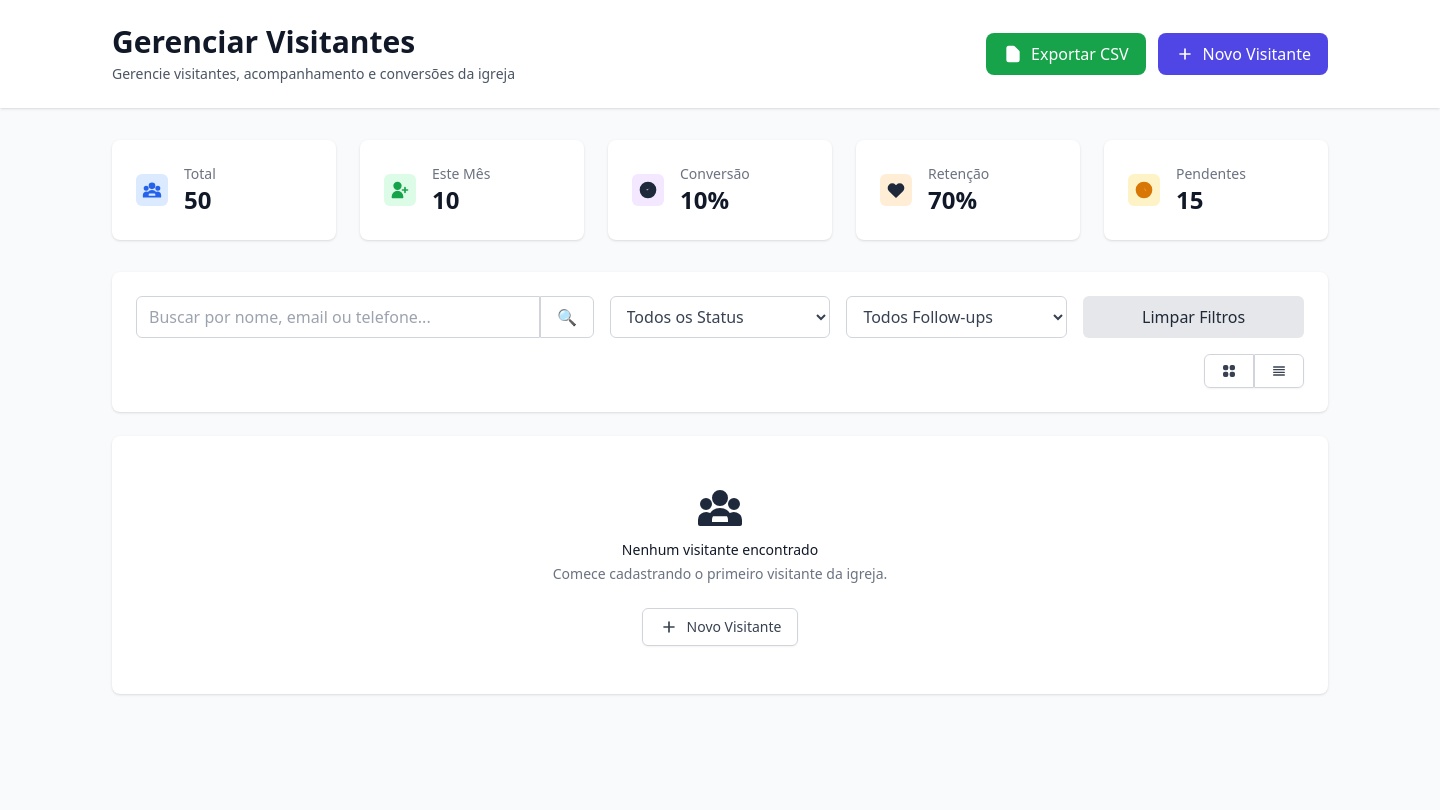
AdminVisitorsPage › Empty State › should show different message when filters applied but no results
The width and height of the screenshot is (1440, 810).
Expected: the heading "Nenhum visitante encontrado" is shown, [622,540,818,559]
# Apply a filter
Type "test" into the field with placeholder "Buscar por nome, email ou telefone...".
click(338, 317); type("test")  # box [136,296,540,338]
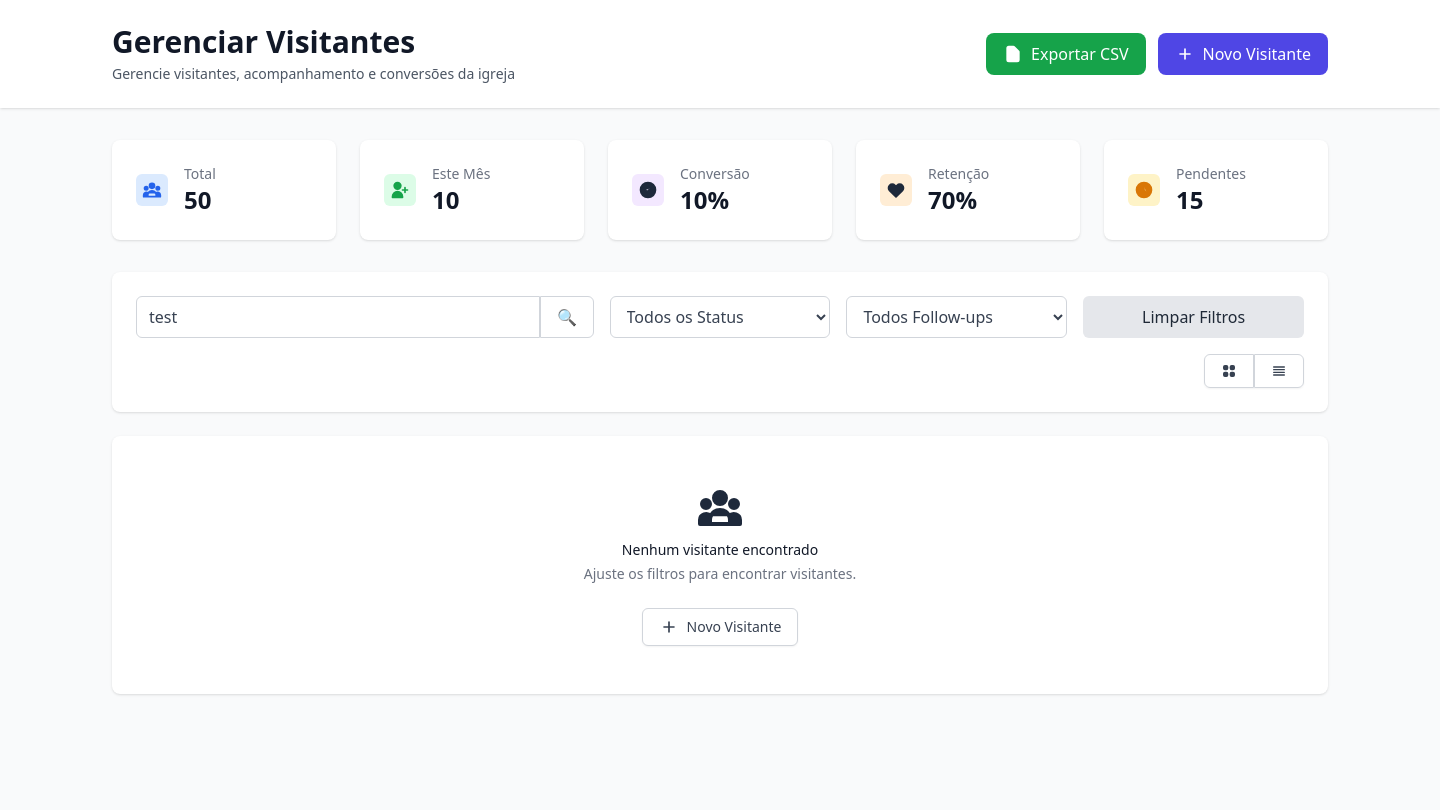
Now the text "Ajuste os filtros para encontrar visitantes." is shown, box [584,564,856,583]
